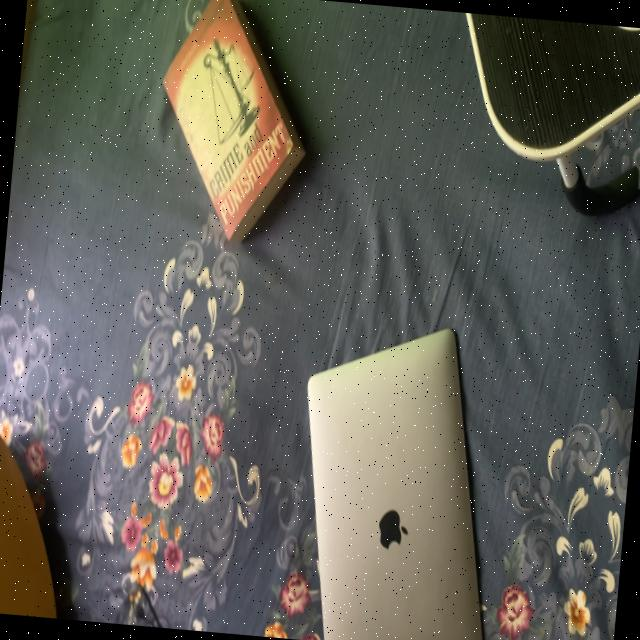book: (134, 0, 327, 265)
laptop: (286, 283, 529, 640)
